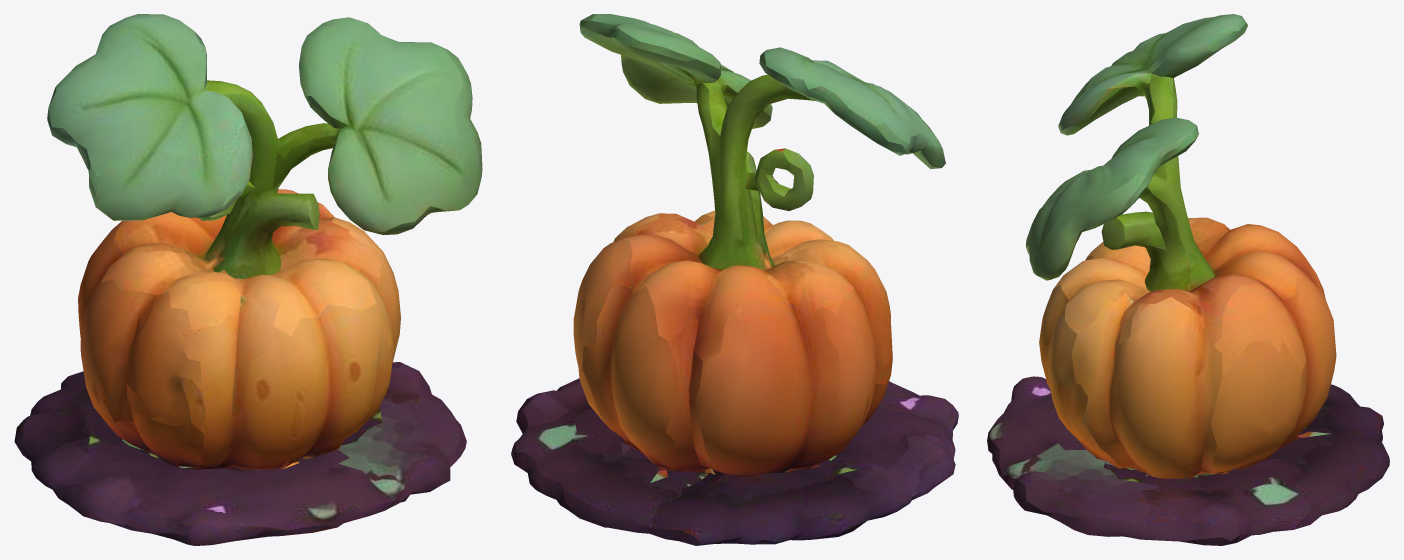
The model's file is crop_pumpkin.glb.
3 renders of one model, left to right at view 1: azimuth 30°, elevation 25°; view 2: azimuth 150°, elevation 25°; view 3: azimuth 270°, elevation 25°, orthographic. The views are drawn at different scales.
Visible parts, largest first — view 1: crop_pumpkin_s15; view 2: crop_pumpkin_s15; view 3: crop_pumpkin_s15.
Boxes of the visible parts, x1,y1,x2,y2 form: crop_pumpkin_s15: (14,14,482,545); crop_pumpkin_s15: (511,14,958,545); crop_pumpkin_s15: (987,14,1389,545).
Size of the model in its own units: 0.9281 by 1 by 0.8993.
Materials: 1 (1 with a texture image).
